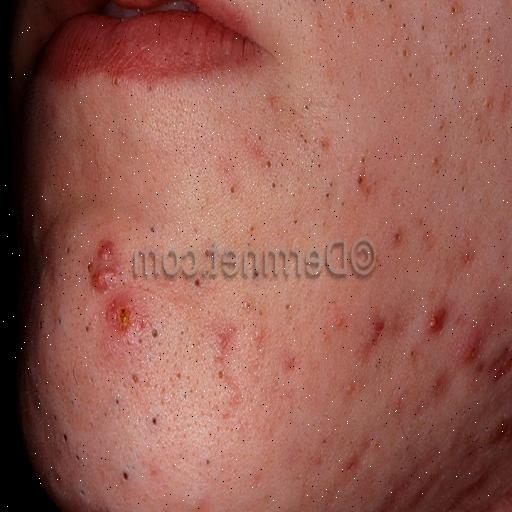Skin_Lesion: (456, 466, 490, 512), (362, 314, 386, 366), (422, 304, 446, 348), (114, 295, 138, 333), (495, 341, 512, 387), (460, 338, 488, 365), (212, 327, 234, 359), (86, 268, 112, 294), (493, 416, 512, 446), (442, 42, 468, 62), (452, 180, 470, 208), (360, 434, 379, 458), (425, 375, 445, 397), (96, 234, 114, 258), (322, 178, 336, 208), (226, 383, 242, 409), (118, 468, 134, 492), (284, 352, 300, 376), (396, 42, 412, 66), (243, 290, 256, 318), (191, 270, 204, 298), (172, 366, 184, 396), (456, 251, 476, 267), (241, 134, 263, 148), (331, 308, 346, 328), (408, 62, 420, 86), (243, 223, 255, 246), (344, 454, 356, 476), (265, 88, 277, 109), (60, 430, 72, 450), (392, 396, 404, 416), (262, 153, 274, 173), (227, 176, 239, 196), (343, 381, 355, 401), (148, 325, 162, 341), (462, 72, 478, 86), (404, 349, 418, 365), (282, 300, 292, 322), (344, 6, 354, 26), (352, 174, 366, 188), (34, 319, 46, 335), (318, 434, 330, 450), (383, 4, 394, 21), (112, 394, 121, 414), (61, 242, 69, 264), (80, 321, 91, 337), (52, 317, 62, 334), (417, 22, 429, 36), (358, 152, 370, 166), (296, 135, 308, 149), (148, 416, 158, 432), (203, 452, 211, 472), (217, 367, 225, 385), (300, 102, 312, 114), (130, 370, 140, 384), (430, 157, 444, 167), (252, 328, 262, 342), (392, 232, 402, 244), (451, 2, 458, 18), (400, 19, 408, 33), (318, 142, 328, 153), (74, 452, 80, 469), (80, 489, 88, 497), (272, 180, 278, 190), (488, 38, 492, 46)
